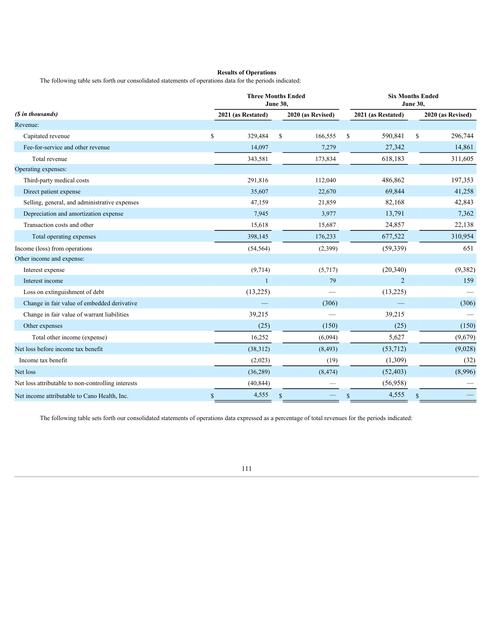box: (14, 92, 479, 404)
